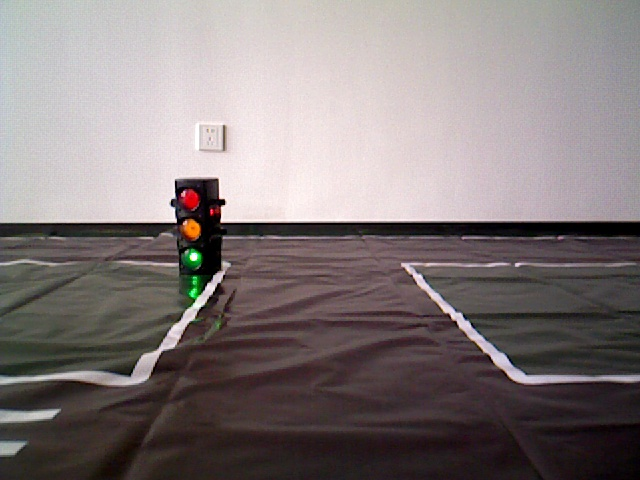green: (173, 185, 219, 268)
